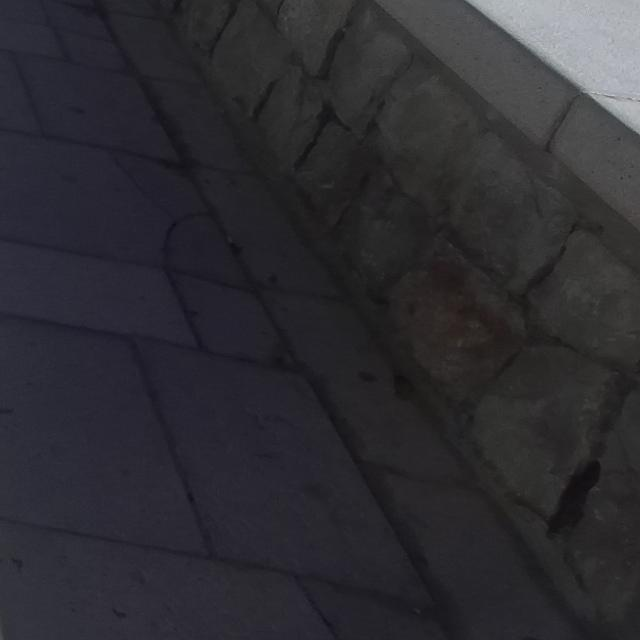calcada_quebrada: (157, 216, 205, 351), (109, 152, 176, 218)
